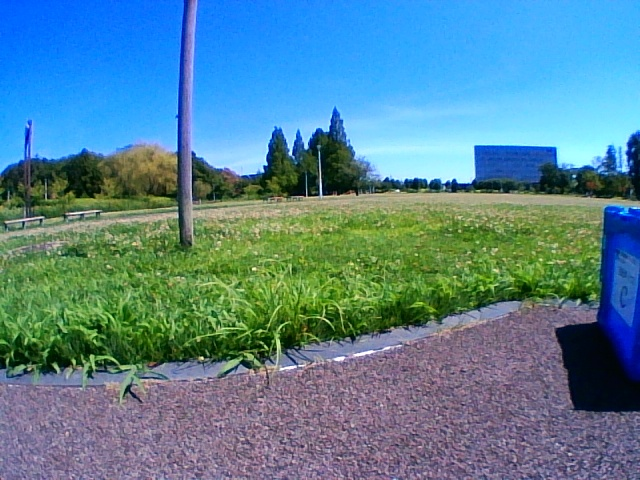blue_box: (605, 208, 640, 385)
tag_c: (615, 257, 632, 309)
